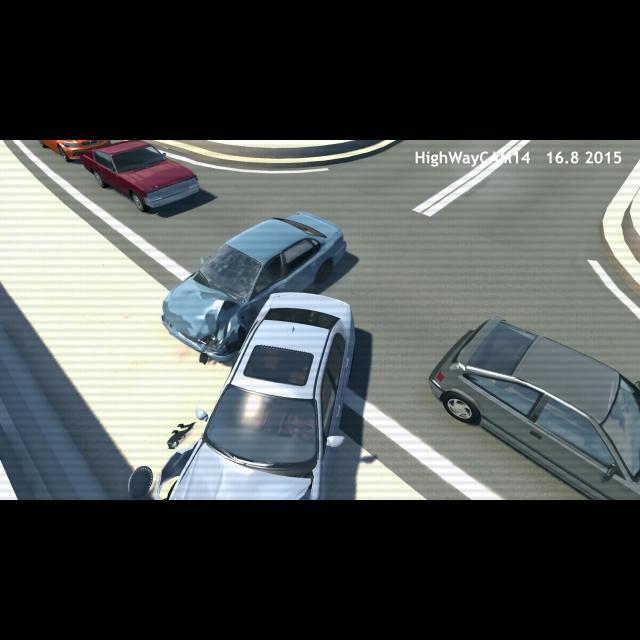accident: (155, 211, 367, 500)
